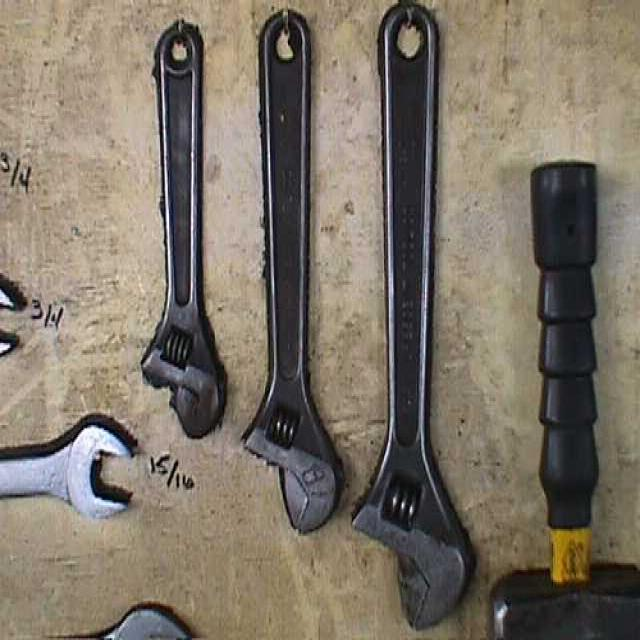wrench: (353, 7, 480, 640), (233, 0, 351, 546), (144, 16, 235, 473)
